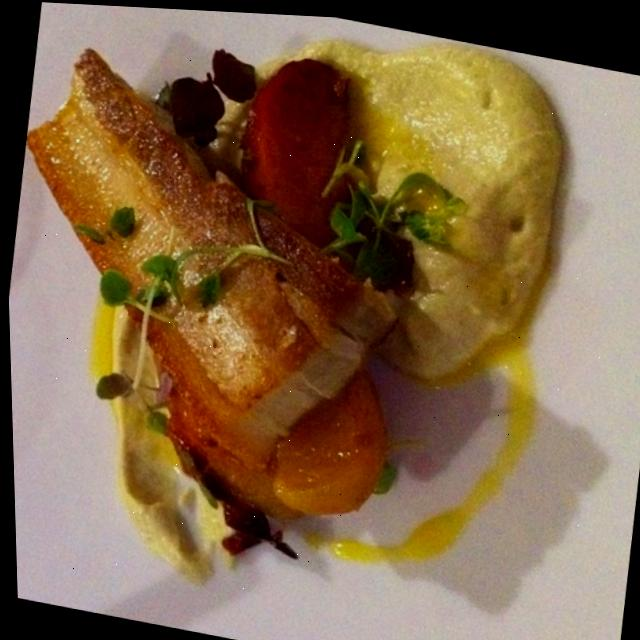牛肉菜式: (0, 0, 598, 606)
